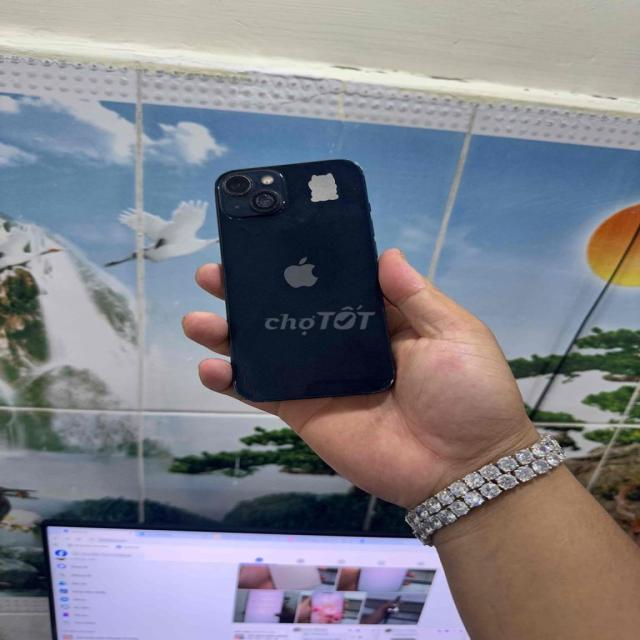gen_12_13: (207, 154, 408, 399)
